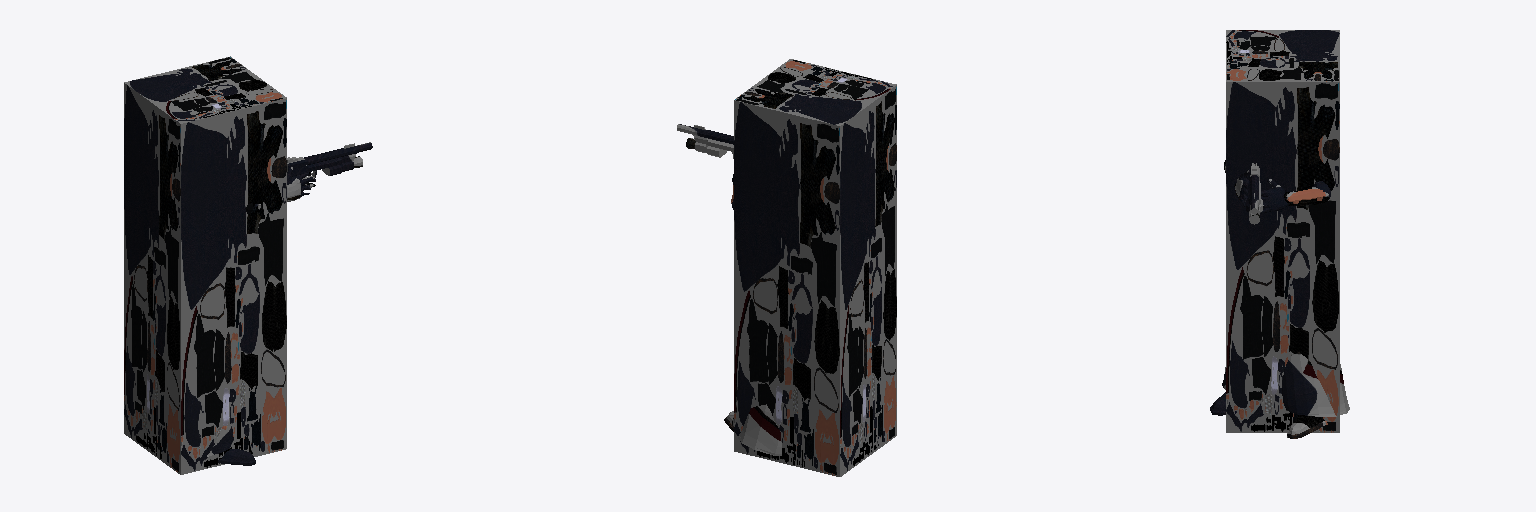
3 views of the same model, side by side, from view 1: azimuth 30°, elevation 25°; view 2: azimuth 150°, elevation 25°; view 3: azimuth 270°, elevation 25° (orthographic).
Visible parts, largest first — view 1: collision, MainCharacter; view 2: collision, MainCharacter; view 3: collision, MainCharacter.
Boxes of the visible parts, <box> form: collision: <box>124,56,286,474</box>; MainCharacter: <box>207,142,372,465</box>; collision: <box>734,59,896,476</box>; MainCharacter: <box>677,124,781,455</box>; collision: <box>1226,30,1339,432</box>; MainCharacter: <box>1210,160,1349,438</box>.
Bounding box in the file's own units: 2.97 × 4.91 × 1.76.
Materials: 1 (1 with a texture image).